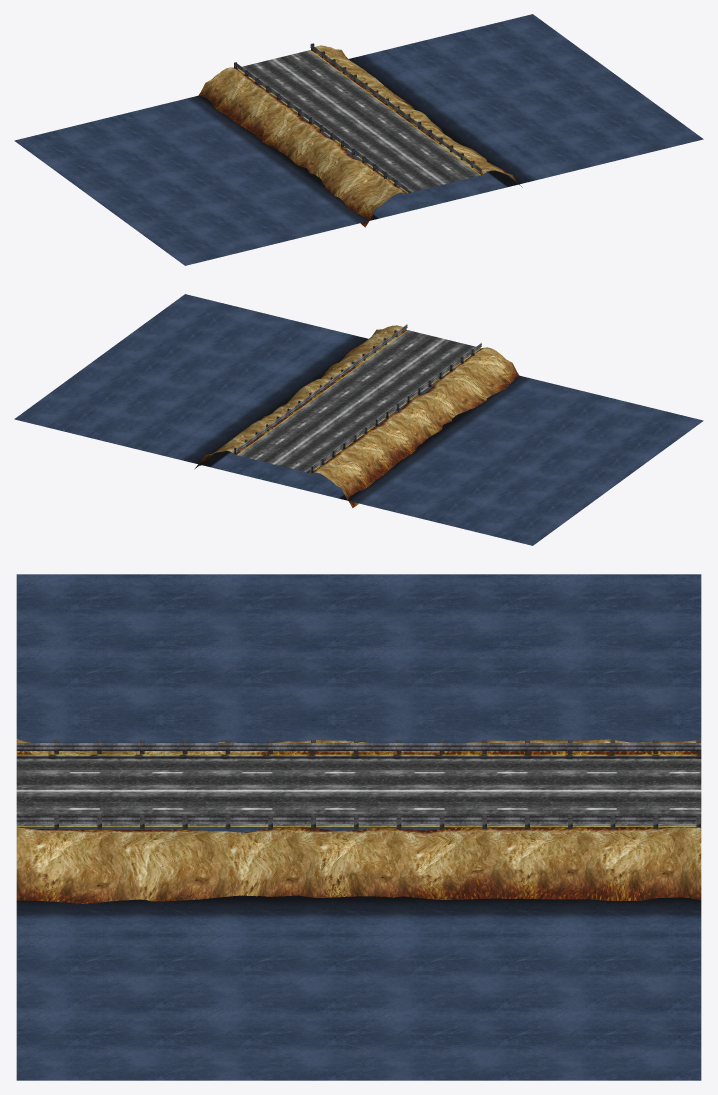
The picture shows the model from 3 angles, top to bottom: view 1: azimuth 30°, elevation 25°; view 2: azimuth 150°, elevation 25°; view 3: azimuth 270°, elevation 25°; orthographic projection. The views are drawn at different scales.
Parts seen in each view (by area): view 1: scene3, road, Box057; view 2: scene3, road, Box057; view 3: scene3, road, Box057.
Part boxes in pixels (box(x1,y1,x2,y2)): scene3: box(14, 14, 703, 265); road: box(234, 43, 481, 193); Box057: box(198, 45, 522, 227); scene3: box(14, 294, 703, 545); road: box(234, 324, 481, 473); Box057: box(194, 325, 519, 507); scene3: box(16, 574, 701, 1080); road: box(16, 739, 701, 829); Box057: box(16, 739, 701, 903).
Size of the model in its own units: 140 by 8.88 by 80.01.
